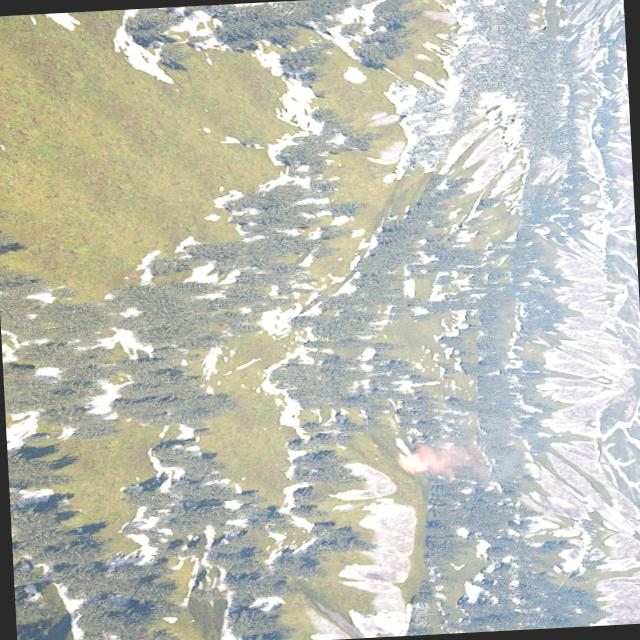fire: (398, 453, 425, 472)
smoke: (422, 438, 488, 481)
